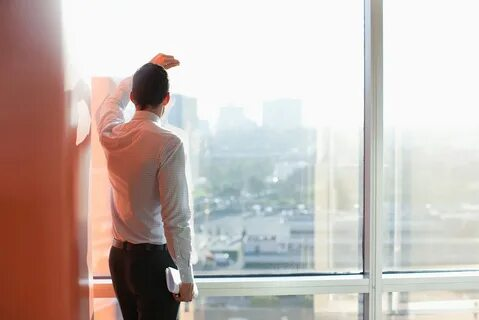awake: (95, 52, 197, 320)
